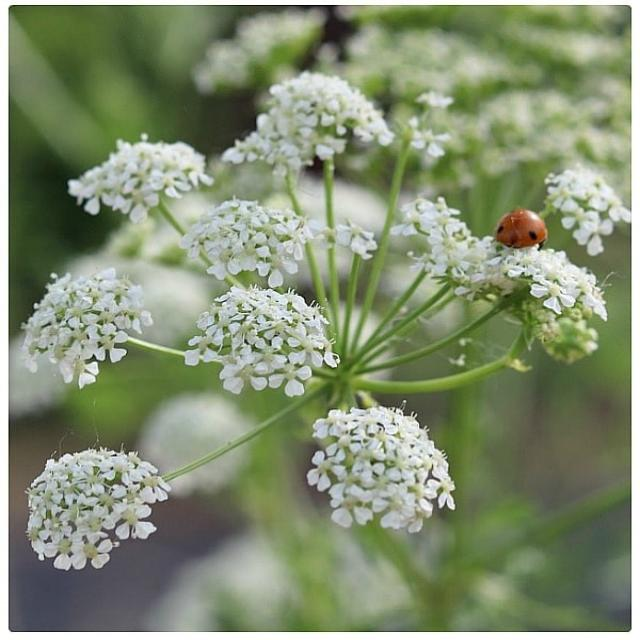Poisonous-Hemlock: (11, 65, 474, 614)
